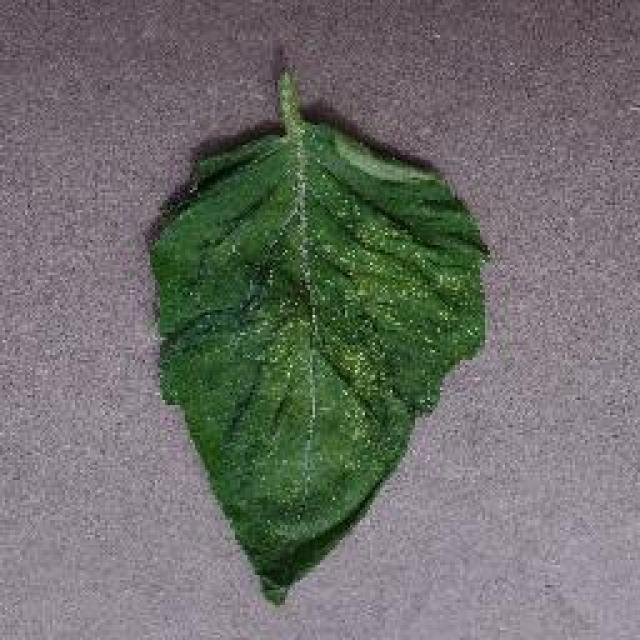Tomato___Spider_mites Two-spotted_spider_mite: (150, 75, 485, 602)
